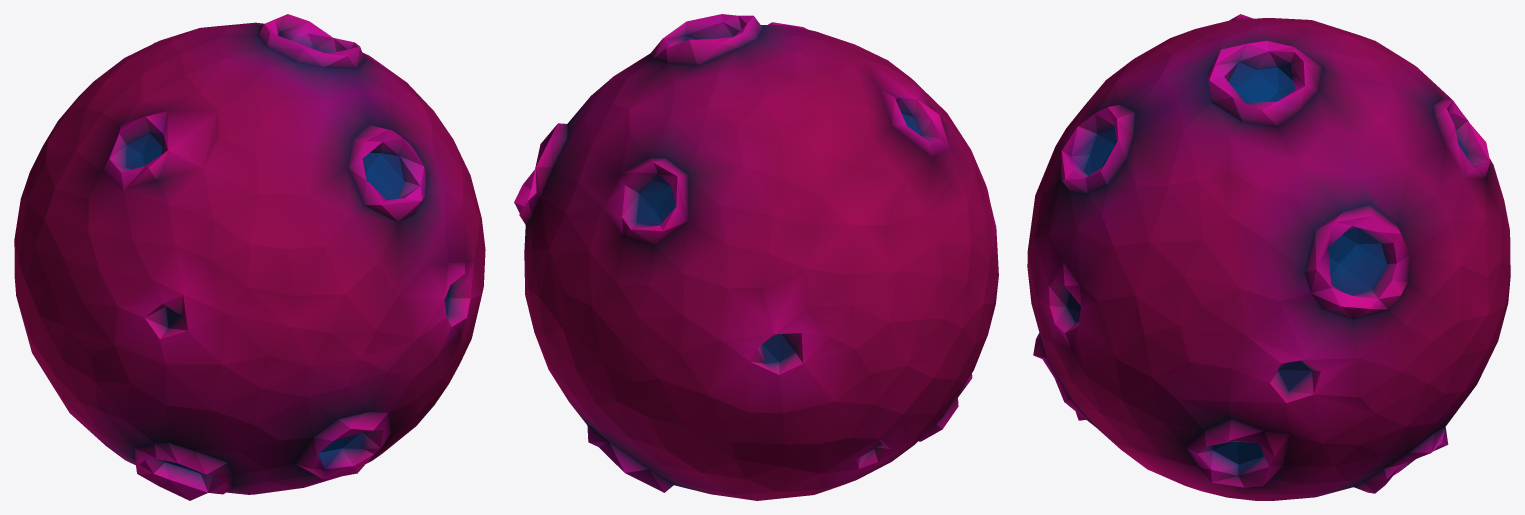
File: moon3.fbx
3 views of the same model, side by side, from view 1: azimuth 30°, elevation 25°; view 2: azimuth 150°, elevation 25°; view 3: azimuth 270°, elevation 25° (orthographic). The views are drawn at different scales.
Parts seen in each view (by area): view 1: attribblur1; view 2: attribblur1; view 3: attribblur1.
Boxes of the visible parts, bbox=[...] form: attribblur1: bbox=[14, 14, 485, 500]; attribblur1: bbox=[514, 14, 998, 500]; attribblur1: bbox=[1027, 14, 1510, 500].
Size of the model in its own units: 0.8539 by 0.8671 by 0.8487.
